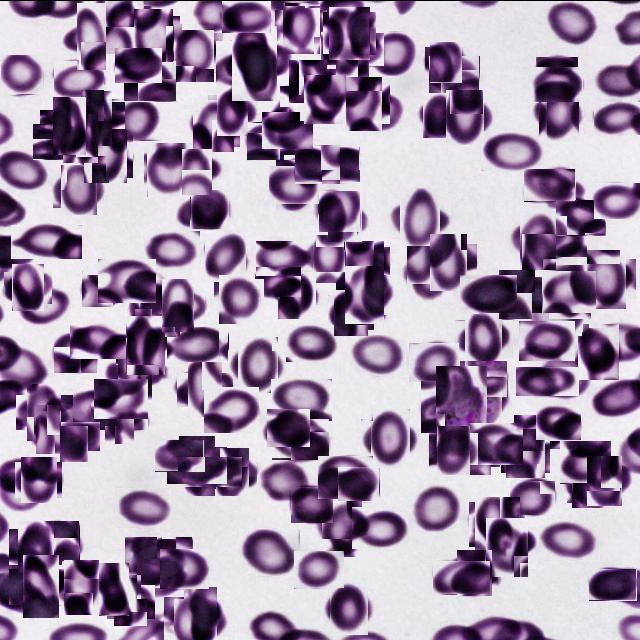difficult: (428, 372, 494, 438)
red blood cell: (223, 32, 284, 92), (125, 536, 193, 587), (238, 528, 300, 575), (394, 192, 446, 244), (404, 248, 456, 298), (170, 591, 223, 640), (271, 378, 332, 420), (98, 258, 156, 302), (472, 498, 522, 549), (132, 282, 182, 333), (204, 386, 259, 432), (481, 130, 544, 170), (366, 412, 416, 462), (582, 253, 632, 303), (146, 144, 196, 194), (110, 344, 160, 394), (574, 326, 624, 376), (482, 522, 532, 572), (16, 561, 66, 611), (544, 0, 600, 44), (169, 27, 218, 77), (121, 320, 170, 370), (539, 520, 600, 560), (272, 418, 330, 460), (167, 326, 229, 365), (11, 224, 82, 258), (81, 131, 130, 180), (340, 269, 389, 318), (352, 506, 409, 548), (540, 354, 594, 398), (318, 455, 373, 498), (350, 334, 406, 376), (318, 504, 367, 552), (410, 485, 462, 530), (460, 314, 508, 362), (101, 1, 149, 49), (328, 24, 376, 72), (546, 267, 594, 315), (115, 487, 172, 527), (469, 422, 523, 464), (460, 274, 518, 313), (234, 341, 282, 388), (535, 90, 582, 138), (68, 12, 116, 59), (173, 441, 221, 488), (424, 238, 472, 285), (326, 8, 373, 56), (365, 30, 416, 74), (519, 320, 575, 360), (560, 440, 612, 483), (515, 217, 562, 264), (442, 93, 489, 140), (339, 79, 386, 126), (202, 232, 250, 278), (190, 102, 238, 148), (17, 284, 72, 324), (532, 291, 582, 335), (144, 230, 200, 269), (109, 98, 161, 140), (124, 60, 177, 101), (284, 64, 331, 110), (130, 12, 177, 58), (94, 378, 148, 418), (182, 366, 228, 412), (22, 388, 68, 434), (302, 76, 348, 122), (46, 102, 92, 148), (286, 324, 341, 362), (61, 389, 119, 425), (327, 584, 372, 630), (342, 242, 387, 288), (216, 276, 262, 321), (278, 5, 324, 50), (59, 563, 104, 609), (256, 240, 314, 275), (272, 162, 318, 206), (531, 220, 587, 256), (503, 430, 548, 474), (13, 524, 58, 568), (74, 95, 119, 139), (433, 560, 491, 594), (160, 548, 209, 588), (409, 342, 459, 381), (294, 550, 345, 588), (429, 55, 480, 93), (33, 407, 77, 451), (262, 462, 310, 502), (178, 456, 242, 486), (247, 121, 296, 160), (70, 324, 126, 358), (57, 167, 100, 211), (495, 272, 538, 316), (98, 392, 141, 436), (262, 111, 313, 148), (137, 558, 184, 598), (156, 284, 200, 326), (295, 144, 341, 184), (532, 66, 583, 102), (516, 366, 579, 395), (584, 458, 626, 501), (54, 332, 98, 373), (514, 414, 567, 448), (54, 60, 104, 96), (556, 199, 606, 235), (33, 122, 83, 158), (460, 360, 508, 397), (82, 270, 130, 307), (570, 462, 612, 504), (276, 274, 318, 316), (454, 428, 496, 470), (110, 580, 152, 622), (432, 428, 474, 470), (18, 458, 60, 500), (92, 568, 134, 610), (60, 116, 102, 158), (313, 146, 361, 182), (318, 190, 359, 232), (1, 54, 44, 94), (524, 168, 576, 201), (331, 291, 372, 332), (212, 451, 253, 492), (306, 238, 348, 278), (212, 90, 254, 130), (454, 552, 496, 592), (594, 182, 640, 218), (536, 404, 582, 440), (115, 47, 162, 82), (267, 408, 310, 446), (356, 92, 401, 128), (510, 480, 556, 515), (40, 520, 80, 560), (324, 199, 364, 239), (154, 439, 204, 471), (8, 266, 48, 306), (54, 416, 94, 456), (220, 0, 270, 32), (589, 568, 637, 600), (420, 95, 459, 134), (190, 190, 230, 228), (594, 101, 640, 134), (291, 486, 333, 522), (338, 466, 380, 501), (178, 152, 215, 190), (255, 266, 301, 296), (427, 44, 464, 80), (351, 290, 390, 324), (536, 56, 578, 87)
